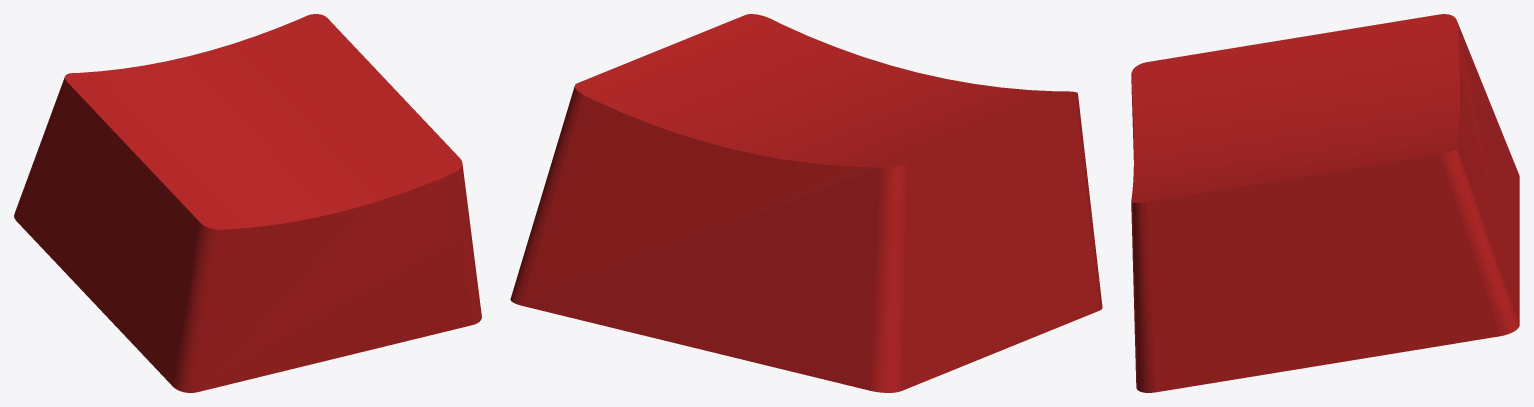
File: original-87.obj
3 renders of one model, left to right at view 1: azimuth 30°, elevation 25°; view 2: azimuth 150°, elevation 25°; view 3: azimuth 270°, elevation 25°, orthographic. The views are drawn at different scales.
Parts seen in each view (by area): view 1: 组件_1_67/组件_1/mesh7/mesh7-geometry#mesh7-geometry; view 2: 组件_1_67/组件_1/mesh7/mesh7-geometry#mesh7-geometry; view 3: 组件_1_67/组件_1/mesh7/mesh7-geometry#mesh7-geometry.
Part boxes in pixels (left/top/right/bottom): 组件_1_67/组件_1/mesh7/mesh7-geometry#mesh7-geometry: left=14, top=14, right=481, bottom=392; 组件_1_67/组件_1/mesh7/mesh7-geometry#mesh7-geometry: left=510, top=14, right=1102, bottom=392; 组件_1_67/组件_1/mesh7/mesh7-geometry#mesh7-geometry: left=1131, top=14, right=1519, bottom=392.
Bounding box in the file's own units: 0.0751 × 0.0489 × 0.0749.
